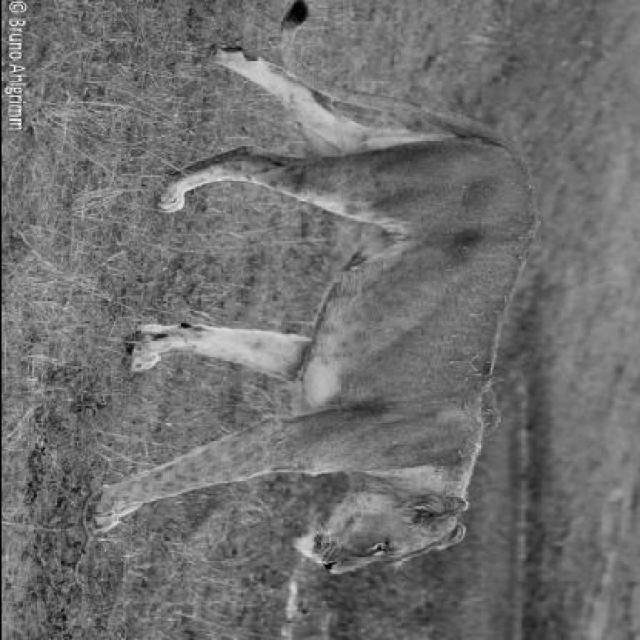Lion: (54, 51, 555, 572)
